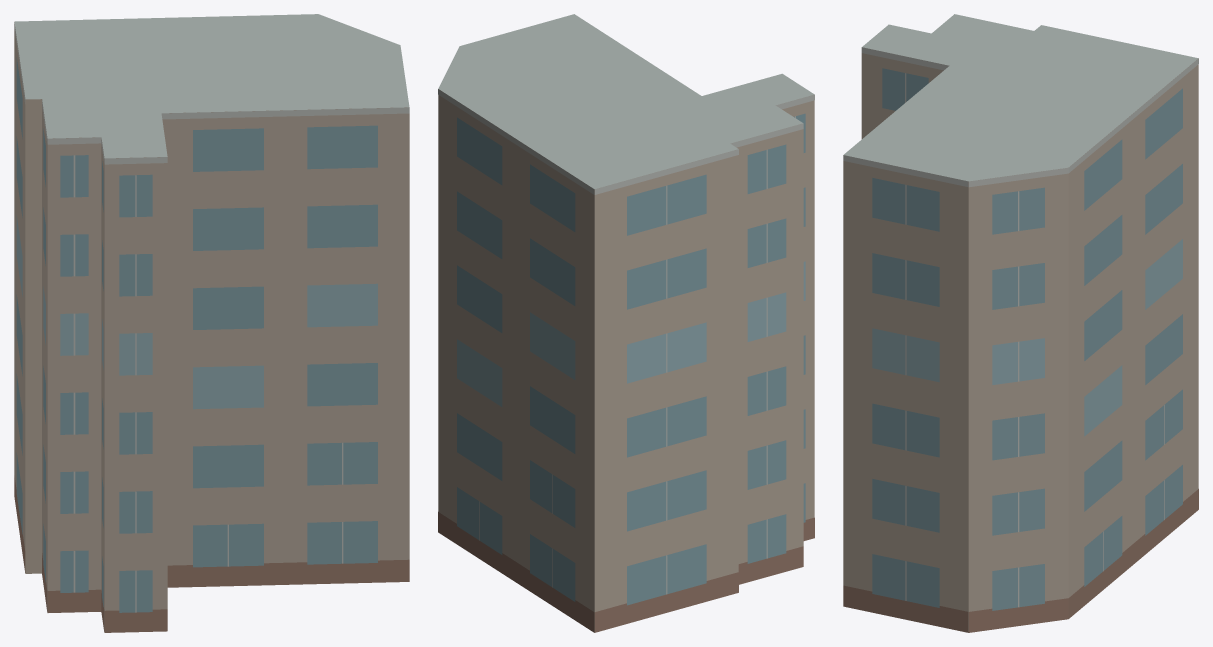
File: survey-upis-32887027.glb
3 renders of one model, left to right at view 1: azimuth 30°, elevation 25°; view 2: azimuth 150°, elevation 25°; view 3: azimuth 270°, elevation 25°, orthographic. The views are drawn at different scales.
Visible parts, largest first — view 1: survey-upis-32887027.tmp; view 2: survey-upis-32887027.tmp; view 3: survey-upis-32887027.tmp.
Part boxes in pixels (x1,y1,x2,y2): survey-upis-32887027.tmp: (14,14,409,632); survey-upis-32887027.tmp: (438,14,814,632); survey-upis-32887027.tmp: (843,14,1198,632).
Bounding box in the file's own units: 14.88 × 18.7 × 13.35.
